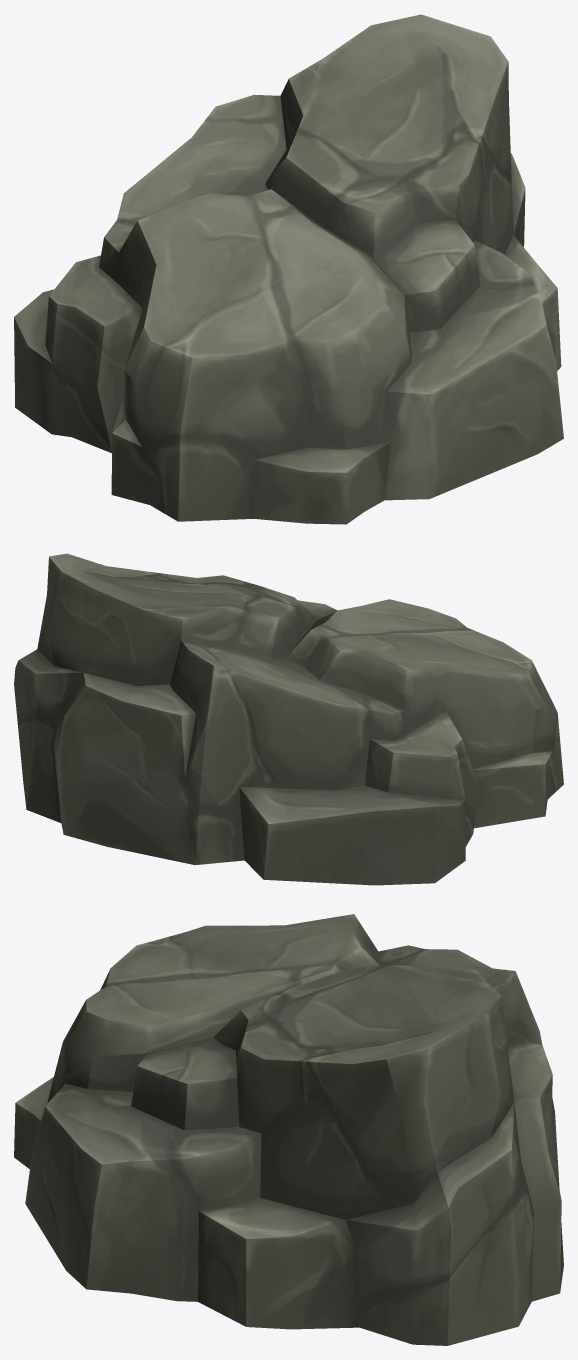
Rendered from Rock_11.fbx.
3 views of the same model, one above another, from view 1: azimuth 30°, elevation 25°; view 2: azimuth 150°, elevation 25°; view 3: azimuth 270°, elevation 25° (orthographic). The views are drawn at different scales.
Visible parts, largest first — view 1: polySurface565; view 2: polySurface565; view 3: polySurface565.
Part boxes in pixels (x1,y1,x2,y2): polySurface565: (14, 14, 563, 524); polySurface565: (14, 553, 563, 885); polySurface565: (14, 914, 563, 1345).
Size of the model in its own units: 173 by 89.39 by 149.
1 material, 1 textured.
